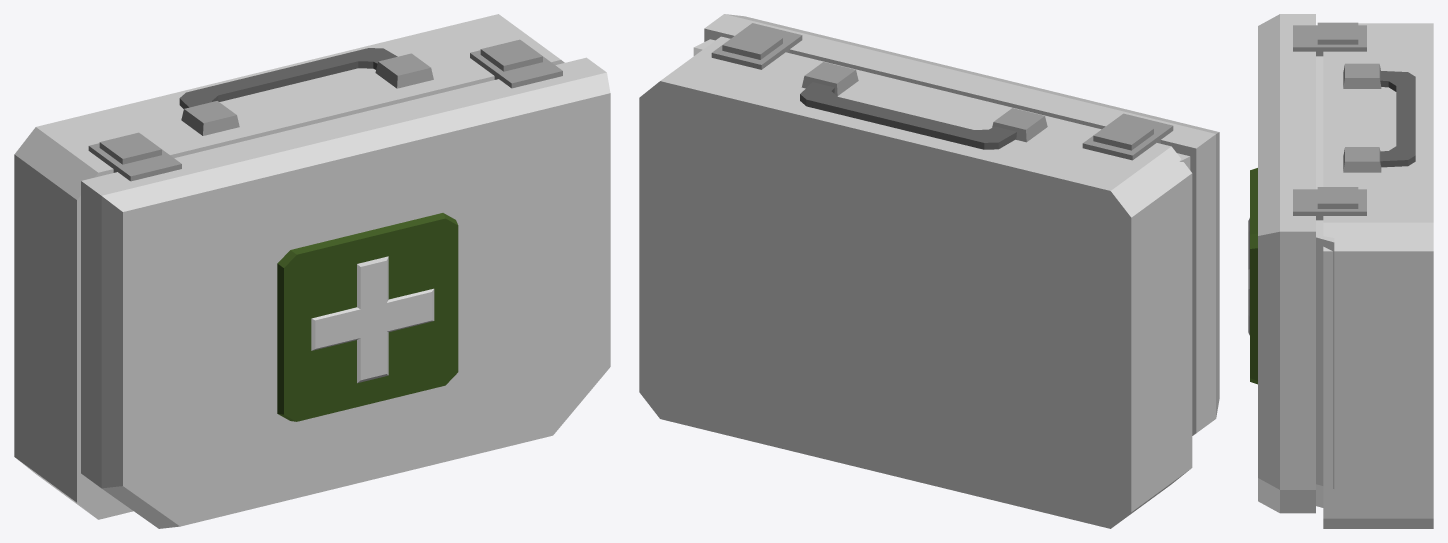
The model's file is FirstAidKit Hard.glb.
3 renders of one model, left to right at view 1: azimuth 30°, elevation 25°; view 2: azimuth 150°, elevation 25°; view 3: azimuth 270°, elevation 25°, orthographic. The views are drawn at different scales.
Parts seen in each view (by area): view 1: FirstAidKit_Hard; view 2: FirstAidKit_Hard; view 3: FirstAidKit_Hard.
Boxes of the visible parts, x1=… form: FirstAidKit_Hard: x1=14, y1=14, x2=610, y2=528; FirstAidKit_Hard: x1=639, y1=14, x2=1219, y2=528; FirstAidKit_Hard: x1=1248, y1=14, x2=1433, y2=528.
Size of the model in its own units: 0.4709 by 0.3193 by 0.1692.
